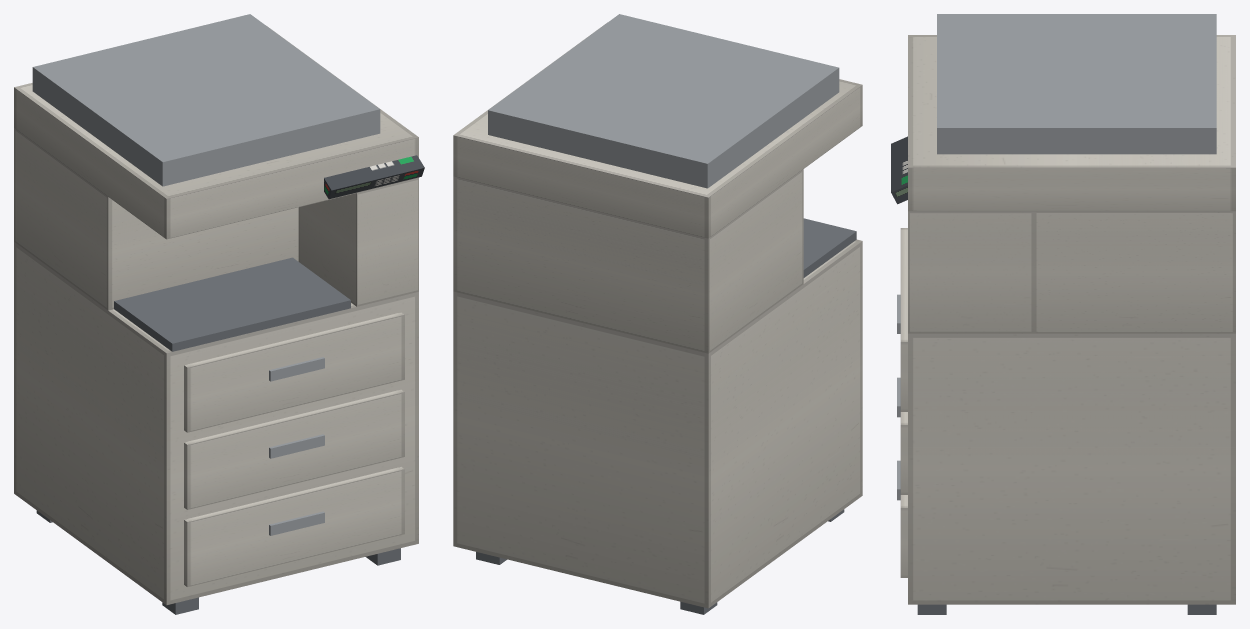
The model's file is copier_desktop.glb.
3 views of the same model, side by side, from view 1: azimuth 30°, elevation 25°; view 2: azimuth 150°, elevation 25°; view 3: azimuth 270°, elevation 25° (orthographic). The views are drawn at different scales.
Parts seen in each view (by area): view 1: copier_desktop; view 2: copier_desktop; view 3: copier_desktop.
Part boxes in pixels (left/top/right/bottom): copier_desktop: left=14, top=14, right=424, bottom=614; copier_desktop: left=453, top=14, right=862, bottom=614; copier_desktop: left=891, top=14, right=1235, bottom=614.
Size of the model in its own units: 0.65 by 1.1 by 0.7151.
Materials: 4 (2 with a texture image).
